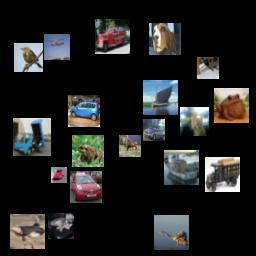airplane: (44, 34, 70, 60)
automobile: (68, 95, 100, 127), (70, 171, 102, 203), (143, 119, 165, 141), (51, 167, 67, 183)
bird: (154, 215, 189, 250), (10, 214, 45, 249), (14, 43, 43, 72)
cat: (180, 107, 209, 136), (48, 213, 74, 239), (197, 57, 219, 79)
deer: (119, 135, 141, 157)
dog: (149, 23, 181, 55)
frog: (214, 88, 249, 123), (72, 135, 104, 167)
ship: (143, 80, 178, 115), (164, 150, 199, 185)
truck: (13, 118, 51, 156), (95, 19, 130, 54), (205, 157, 240, 192)
